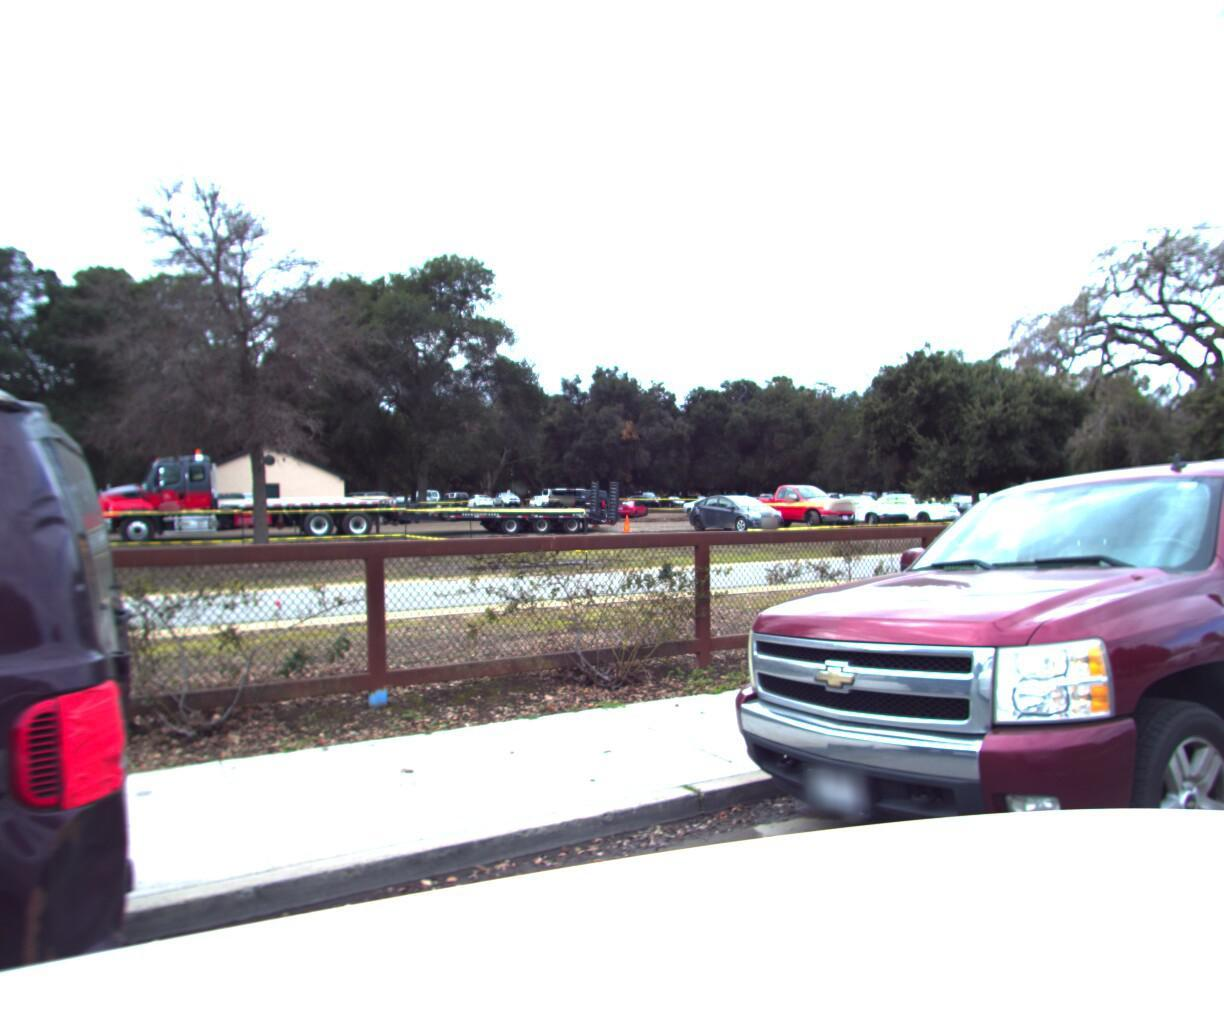car: (668, 429, 1224, 1024)
